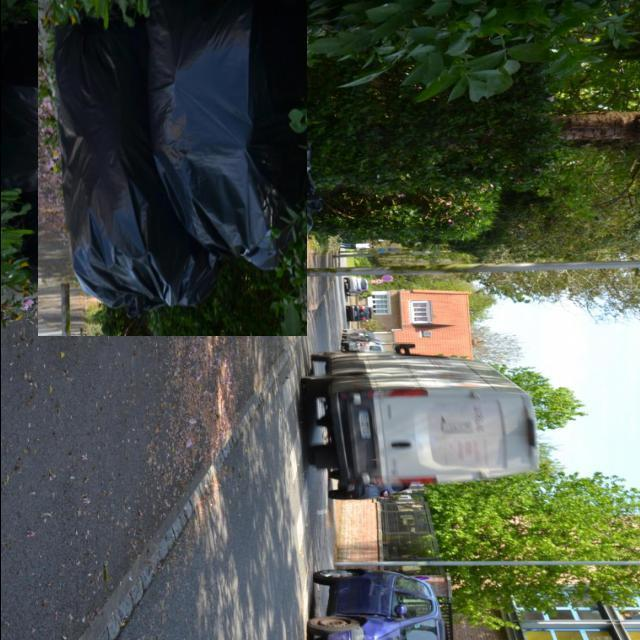Trashbag: (154, 15, 287, 270), (54, 30, 163, 312)
